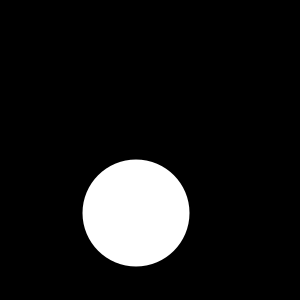rectangle: (82, 160, 189, 266)
